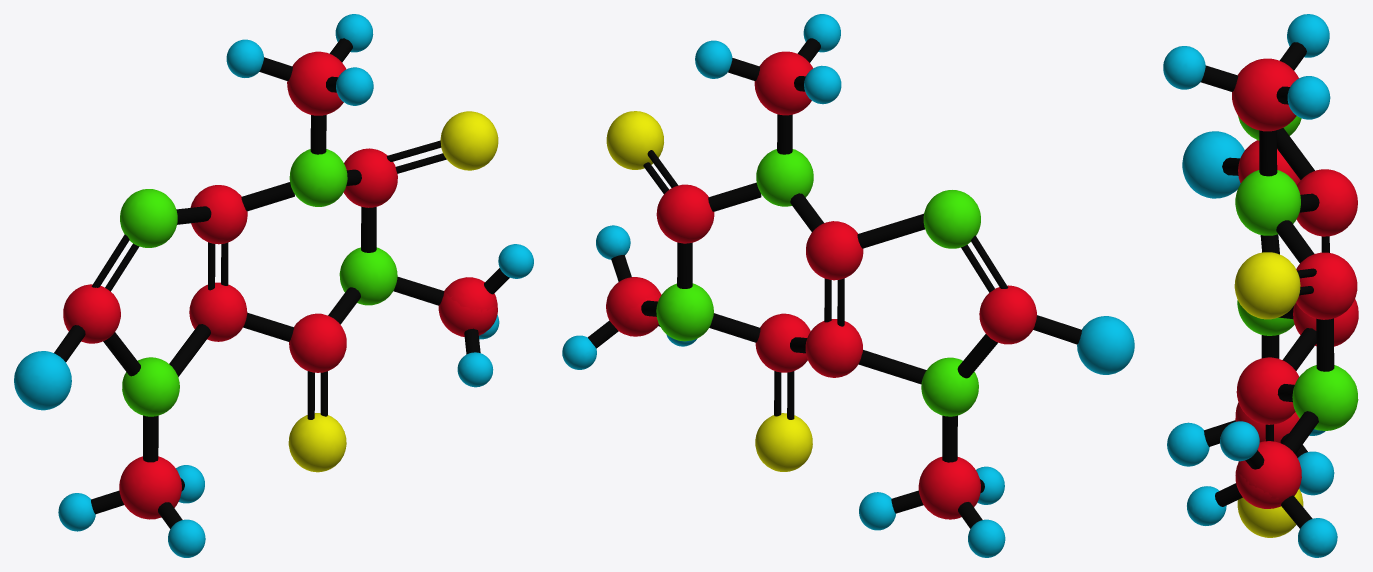
Rendered from caffeine_molecule_v2.glb.
The picture shows the model from 3 angles, left to right: view 1: azimuth 30°, elevation 25°; view 2: azimuth 150°, elevation 25°; view 3: azimuth 270°, elevation 25°; orthographic projection. The views are drawn at different scales.
Visible parts, largest first — view 1: _gltfNode_0, _gltfNode_2, _gltfNode_6, _gltfNode_4, _gltfNode_5, _gltfNode_1; view 2: _gltfNode_0, _gltfNode_6, _gltfNode_2, _gltfNode_4, _gltfNode_5, _gltfNode_1; view 3: _gltfNode_0, _gltfNode_2, _gltfNode_6, _gltfNode_4, _gltfNode_5, _gltfNode_1.
Boxes of the visible parts, box(x1,y1,x2,y2) form: _gltfNode_0: box(63, 51, 497, 519); _gltfNode_2: box(14, 14, 533, 557); _gltfNode_6: box(54, 38, 509, 528); _gltfNode_4: box(120, 149, 397, 416); _gltfNode_5: box(288, 111, 498, 472); _gltfNode_1: box(91, 140, 446, 419); _gltfNode_0: box(606, 51, 1036, 519); _gltfNode_6: box(588, 38, 1081, 528); _gltfNode_2: box(562, 14, 1134, 557); _gltfNode_4: box(656, 149, 980, 416); _gltfNode_5: box(606, 111, 812, 471); _gltfNode_1: box(643, 150, 1008, 419); _gltfNode_0: box(1232, 58, 1358, 508); _gltfNode_2: box(1163, 14, 1337, 557); _gltfNode_6: box(1201, 42, 1334, 528); _gltfNode_4: box(1235, 116, 1358, 430); _gltfNode_5: box(1234, 252, 1303, 537); _gltfNode_1: box(1265, 236, 1329, 441).
Bounding box in the file's own units: 1.25 × 1.03 × 0.3565.
